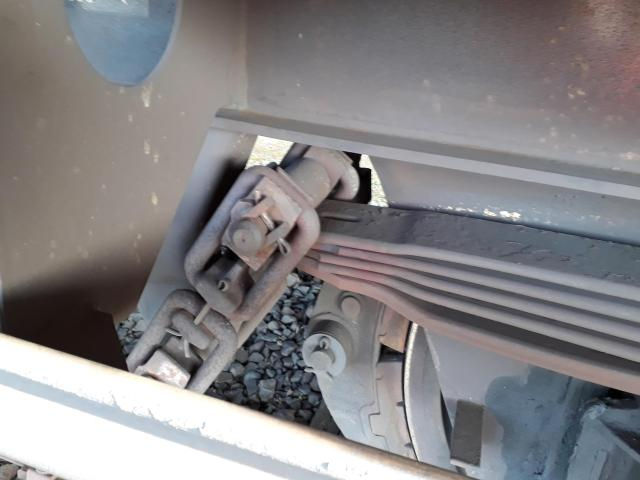blattfederww: (313, 203, 640, 376)
